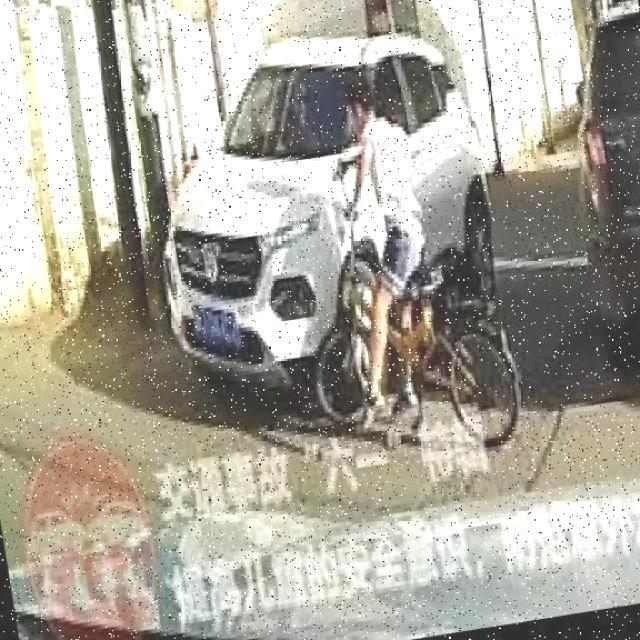accident: (240, 110, 532, 486)
